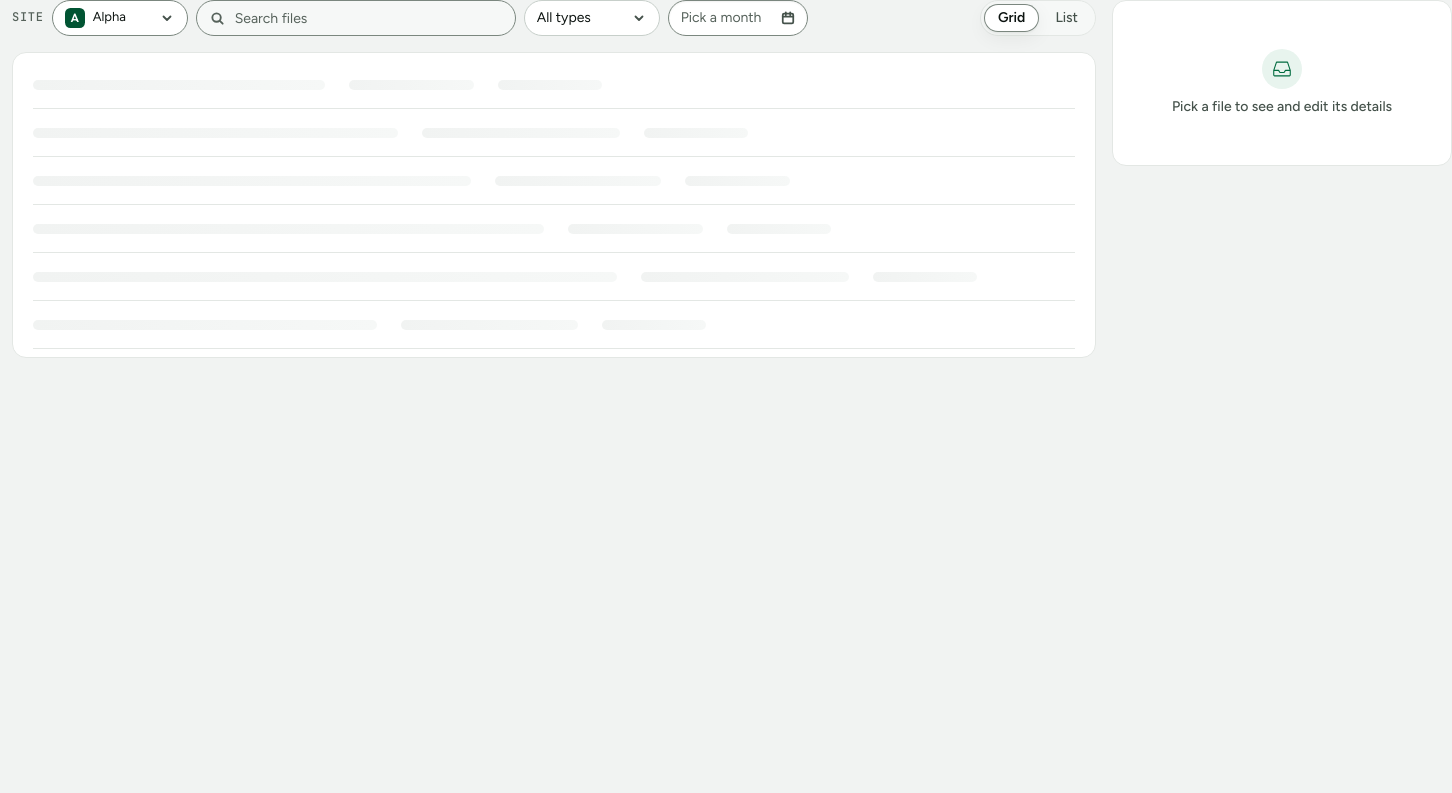
a slow site's library never shows under the site picked after it
The image size is (1452, 793).
Step 1. Click the dropdown named "Site" → (120, 18), box x1=52 y1=0 x2=188 y2=36
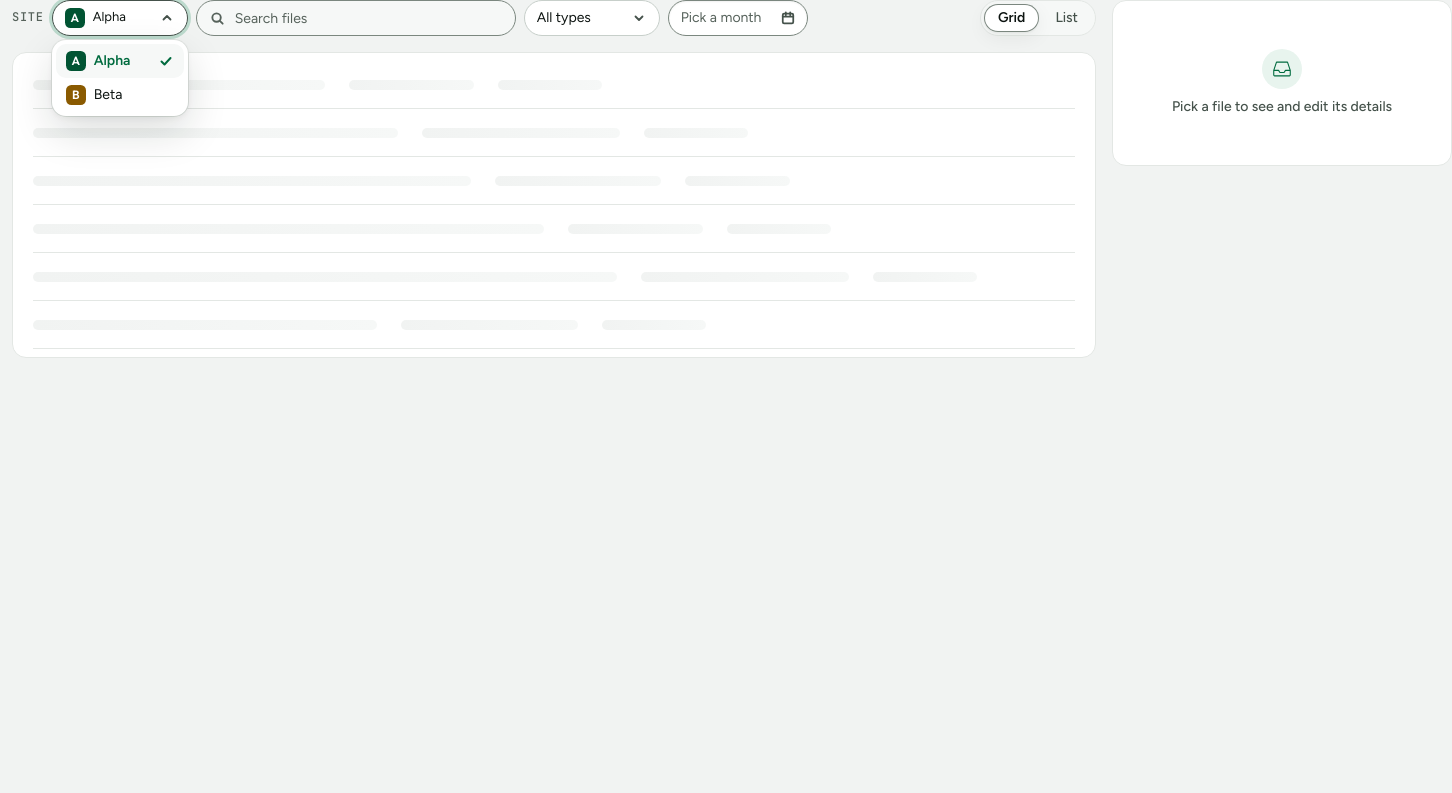
Step 2. Click the option "B Beta" → (94, 95), box x1=66 y1=85 x2=122 y2=105
(page scrolled)
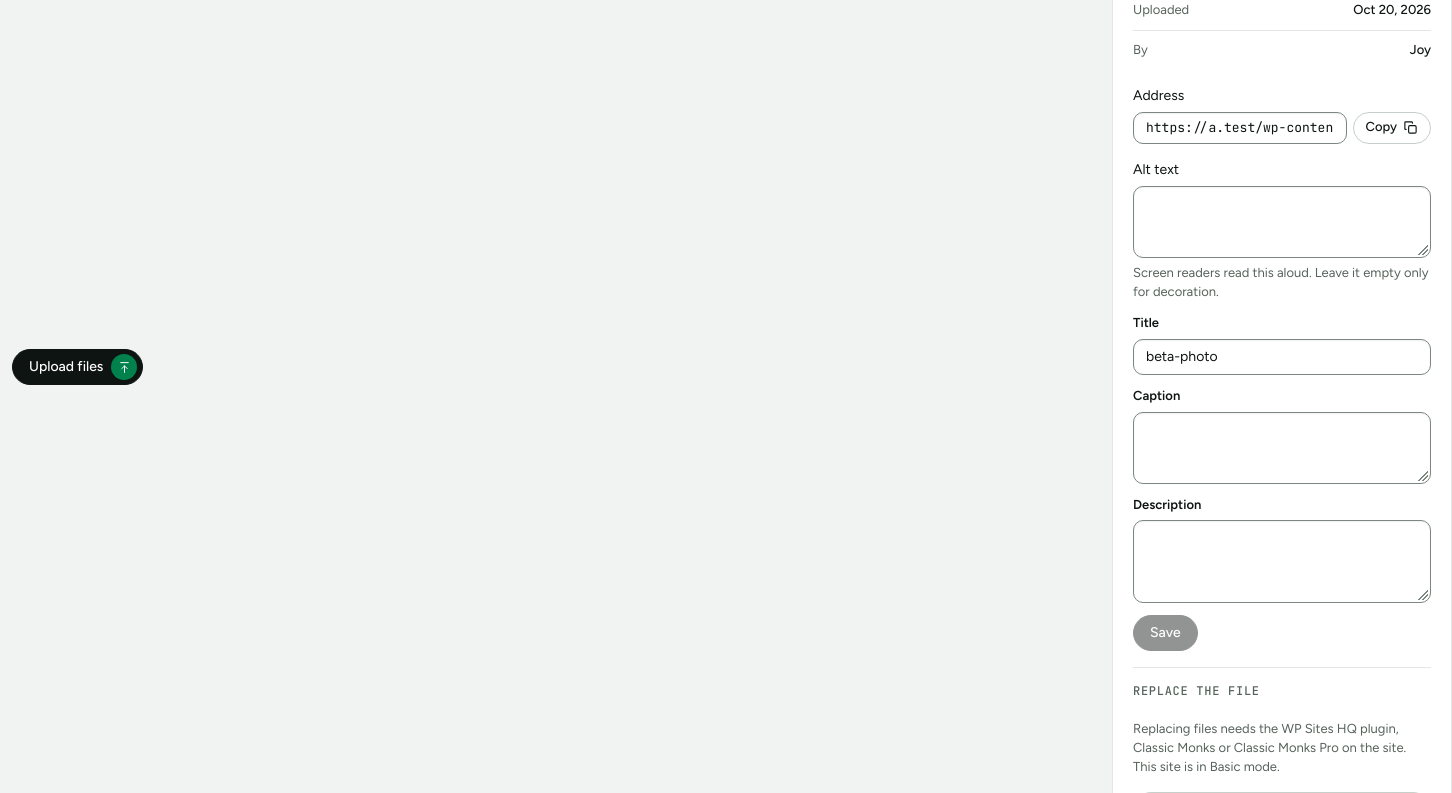
Expected: the form named "Details of beta-photo" is shown, x1=1133 y1=160 x2=1431 y2=651
